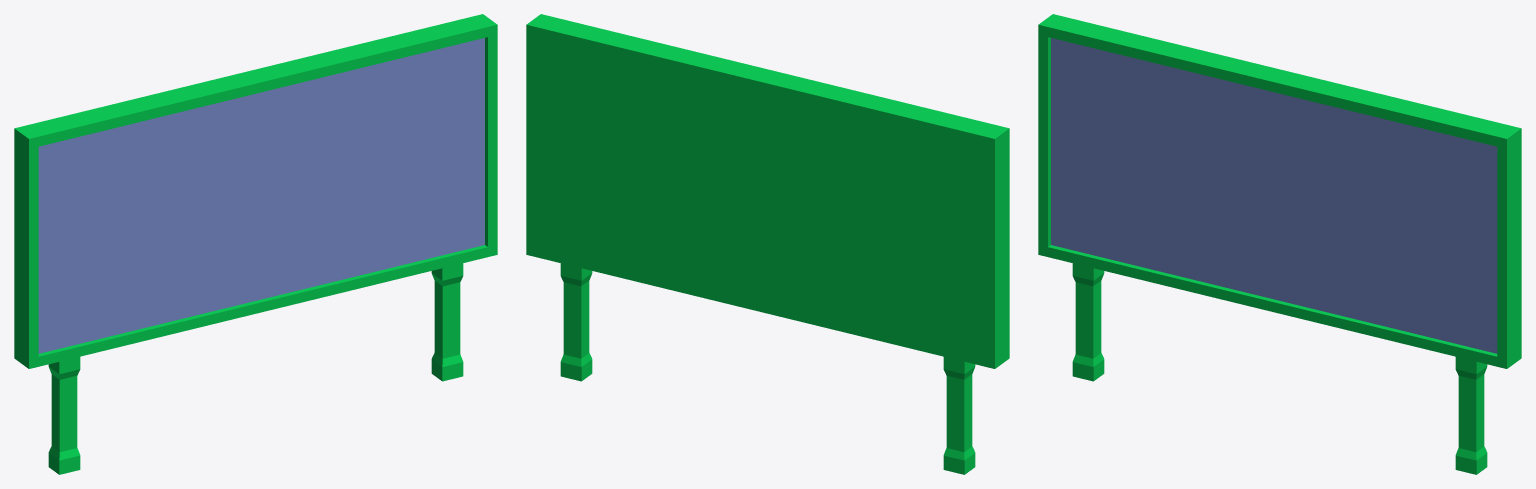
The model's file is SbS_Signboard.fbx.
3 renders of one model, left to right at view 1: azimuth 30°, elevation 25°; view 2: azimuth 150°, elevation 25°; view 3: azimuth 330°, elevation 25°, orthographic.
Visible parts, largest first — view 1: Signboard; view 2: Signboard; view 3: Signboard.
Boxes of the visible parts, x1=… form: Signboard: x1=14, y1=14, x2=497, y2=474; Signboard: x1=526, y1=14, x2=1009, y2=474; Signboard: x1=1038, y1=14, x2=1521, y2=474.
Bounding box in the file's own units: 213 × 150 × 11.52.
